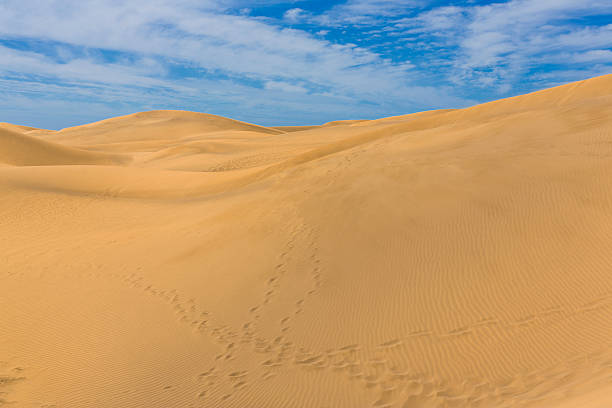human_foot_print: (116, 273, 611, 398), (193, 220, 323, 405)
